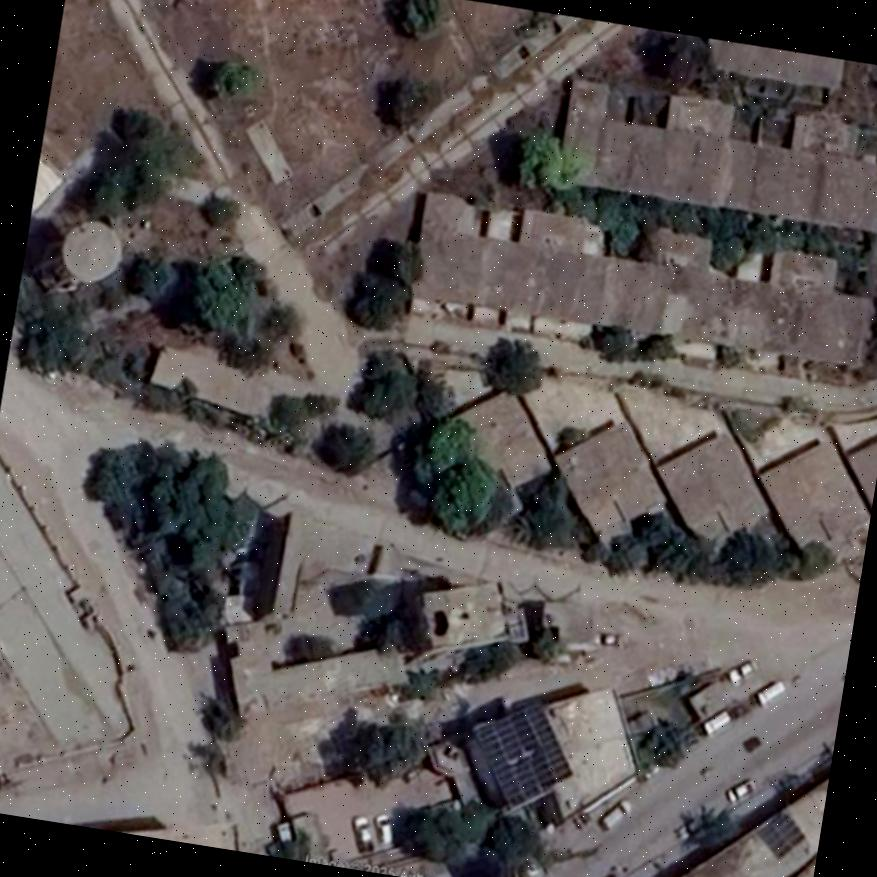Solarpanel: (470, 703, 573, 808), (761, 814, 804, 856)
